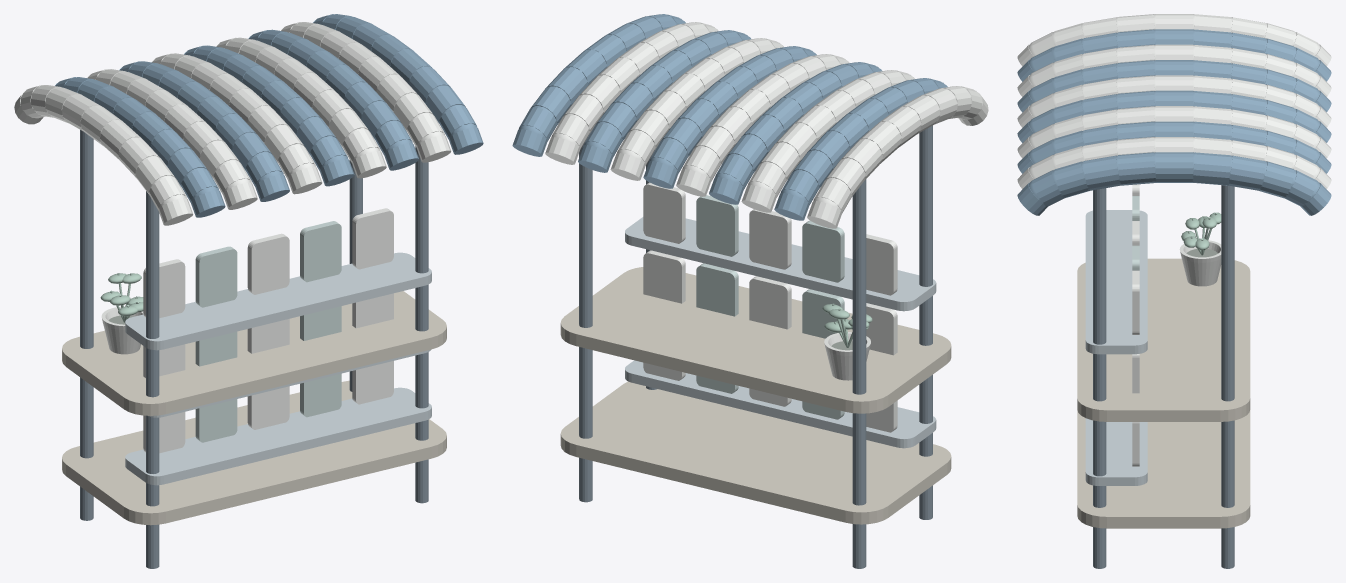
File: market_kiosk.glb
3 renders of one model, left to right at view 1: azimuth 30°, elevation 25°; view 2: azimuth 150°, elevation 25°; view 3: azimuth 270°, elevation 25°, orthographic. The views are drawn at different scales.
Parts seen in each view (by area): view 1: decor_d8dcd8_matte, decor_aaa493_matte, decor_476a8a_matte, decor_9aadb8_metal, decor_455665_metal, decor_9bb7b5_matte, decor_729986_matte; view 2: decor_aaa493_matte, decor_d8dcd8_matte, decor_476a8a_matte, decor_455665_metal, decor_9aadb8_metal, decor_9bb7b5_matte, decor_729986_matte; view 3: decor_aaa493_matte, decor_476a8a_matte, decor_d8dcd8_matte, decor_9aadb8_metal, decor_455665_metal, decor_729986_matte, decor_9bb7b5_matte.
Boxes of the visible parts, bbox=[...] form: decor_d8dcd8_matte: bbox=[14, 22, 451, 453]; decor_aaa493_matte: bbox=[62, 291, 446, 525]; decor_476a8a_matte: bbox=[55, 14, 483, 217]; decor_9aadb8_metal: bbox=[125, 252, 431, 485]; decor_455665_metal: bbox=[80, 130, 428, 568]; decor_9bb7b5_matte: bbox=[195, 221, 341, 442]; decor_729986_matte: bbox=[100, 273, 143, 322]; decor_aaa493_matte: bbox=[560, 267, 951, 524]; decor_d8dcd8_matte: bbox=[545, 22, 988, 432]; decor_476a8a_matte: bbox=[512, 14, 947, 220]; decor_455665_metal: bbox=[579, 125, 932, 568]; decor_9aadb8_metal: bbox=[625, 217, 936, 448]; decor_9bb7b5_matte: bbox=[696, 195, 844, 419]; decor_729986_matte: bbox=[822, 303, 872, 347]; decor_aaa493_matte: bbox=[1077, 258, 1250, 528]; decor_476a8a_matte: bbox=[1017, 29, 1331, 215]; decor_d8dcd8_matte: bbox=[1017, 14, 1331, 466]; decor_9aadb8_metal: bbox=[1085, 210, 1147, 485]; decor_455665_metal: bbox=[1093, 185, 1234, 568]; decor_729986_matte: bbox=[1181, 212, 1221, 255]; decor_9bb7b5_matte: bbox=[1132, 196, 1139, 270].
Bounding box in the file's own units: 1.68 × 2.16 × 1.47.
